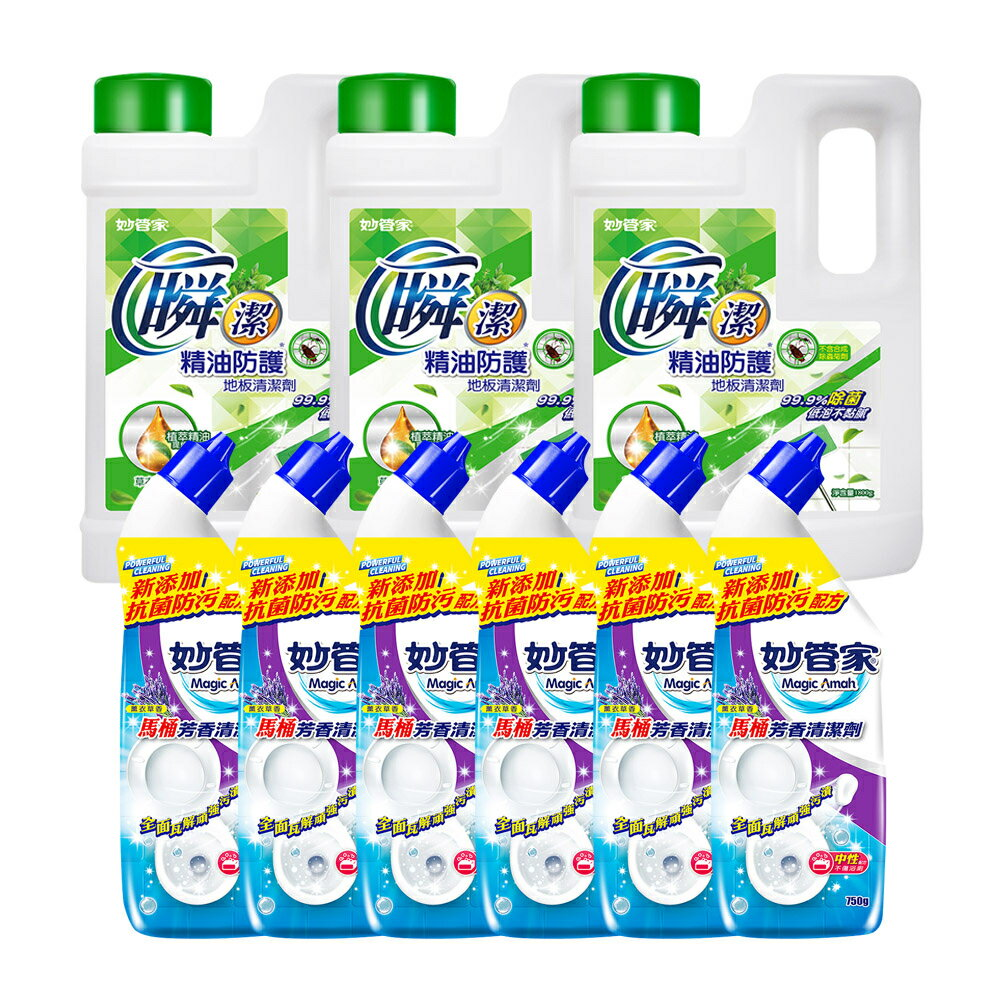cleaner: (575, 73, 923, 579), (315, 70, 595, 584), (66, 68, 339, 587), (710, 428, 905, 944), (96, 430, 280, 948), (225, 427, 410, 933), (568, 421, 735, 950), (342, 429, 496, 940), (469, 431, 619, 954)
